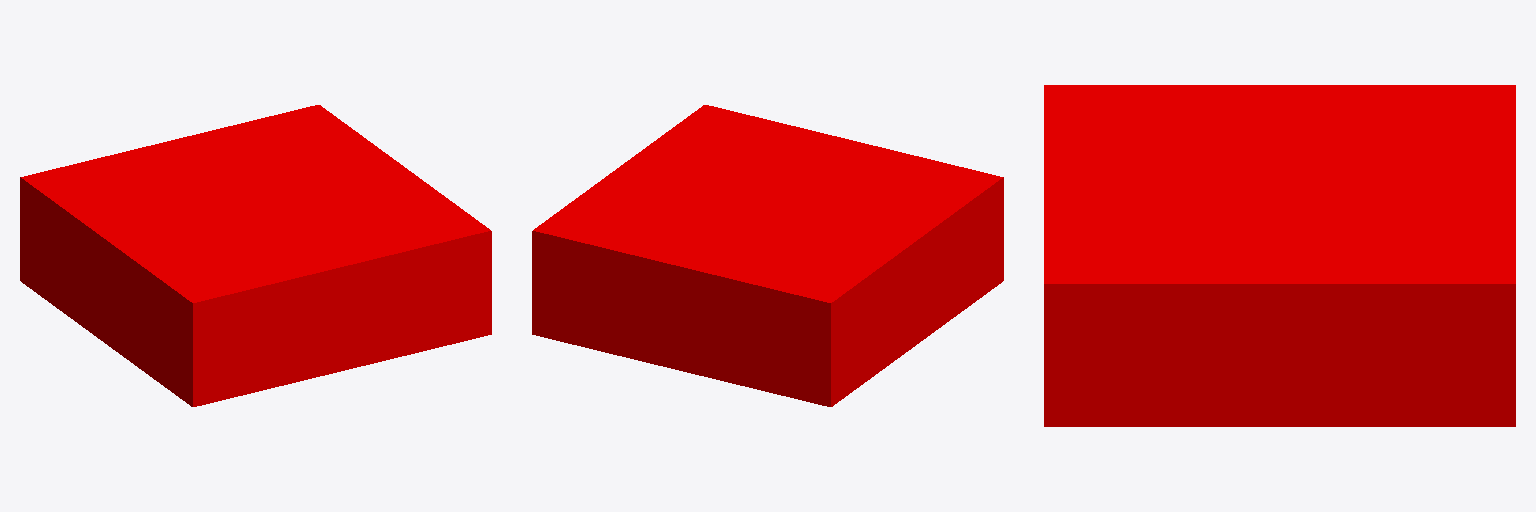
URDF robot description (stove):
<?xml version="1.0"?>
<robot name="stove">
  <link name="base_link">
    <visual>
      <origin xyz="0 0 0.025" rpy="0 0 0" />
      <geometry>
        <box size="0.15 0.15 0.05" />
      </geometry>
      <material name="red">
        <color rgba="1 0 0 1" />
      </material>
    </visual>
    <collision>
      <origin xyz="0 0 0.025" rpy="0 0 0" />
      <geometry>
        <box size="0.15 0.15 0.05" />
      </geometry>
    </collision>
  </link>
</robot>

--- Facts derived from the render (not from the file) ---
Views: 3 orthographic renders of the robot side by side, from view 1: azimuth 30°, elevation 25°; view 2: azimuth 150°, elevation 25°; view 3: azimuth 270°, elevation 25°.
Model stove with 1 links and 0 joints (none), rooted at base_link, posed all joints at 0.
Visible links, largest first — view 1: base_link; view 2: base_link; view 3: base_link.
Boxes of the visible links, x1=… form: base_link: x1=20, y1=105, x2=491, y2=406; base_link: x1=532, y1=105, x2=1003, y2=406; base_link: x1=1044, y1=85, x2=1515, y2=426.
Size in the robot's own frame: 0.15 by 0.15 by 0.05 metres.
Geometry: primitives only (box / cylinder / sphere), no mesh files.